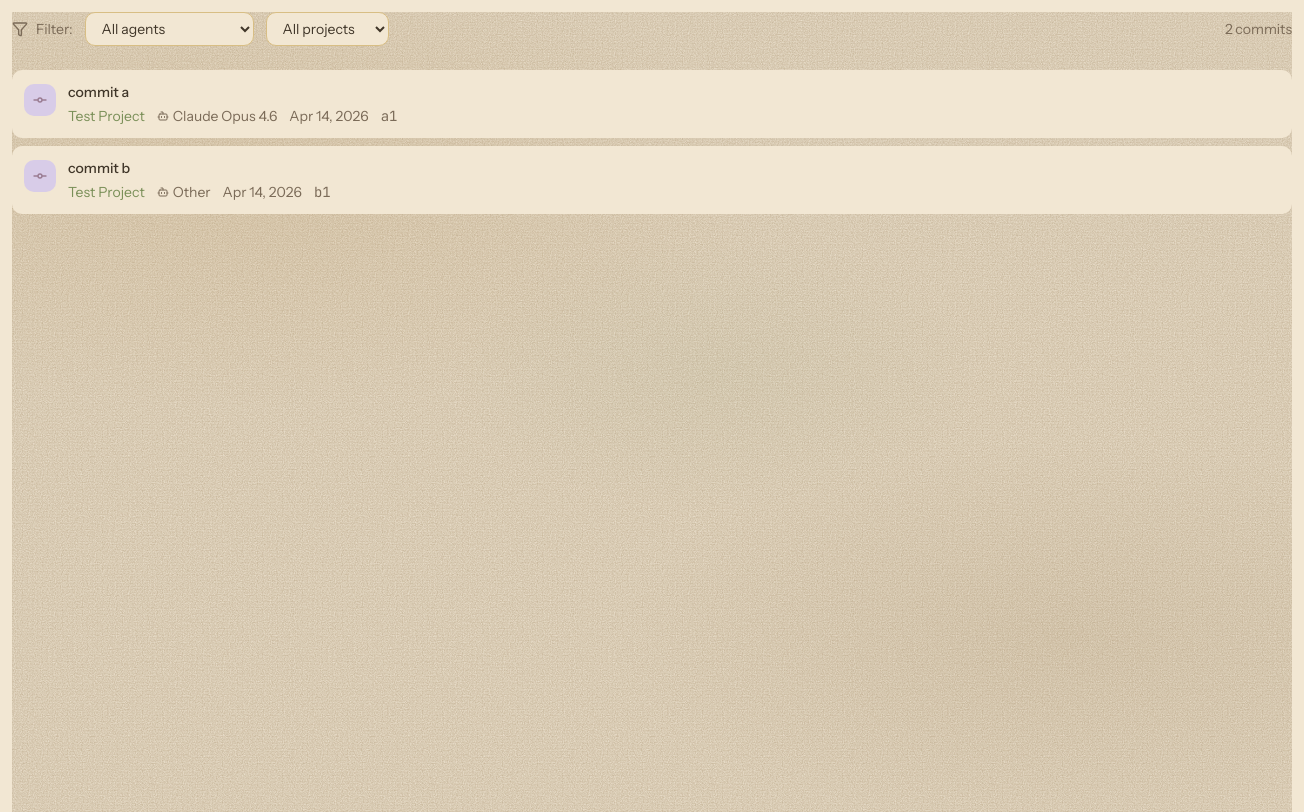
AgentActivityFeed › clear button resets filters
Apply filter
Select "Other (1)" in the 1st dropdown at (169, 29), box [85,12,254,46]
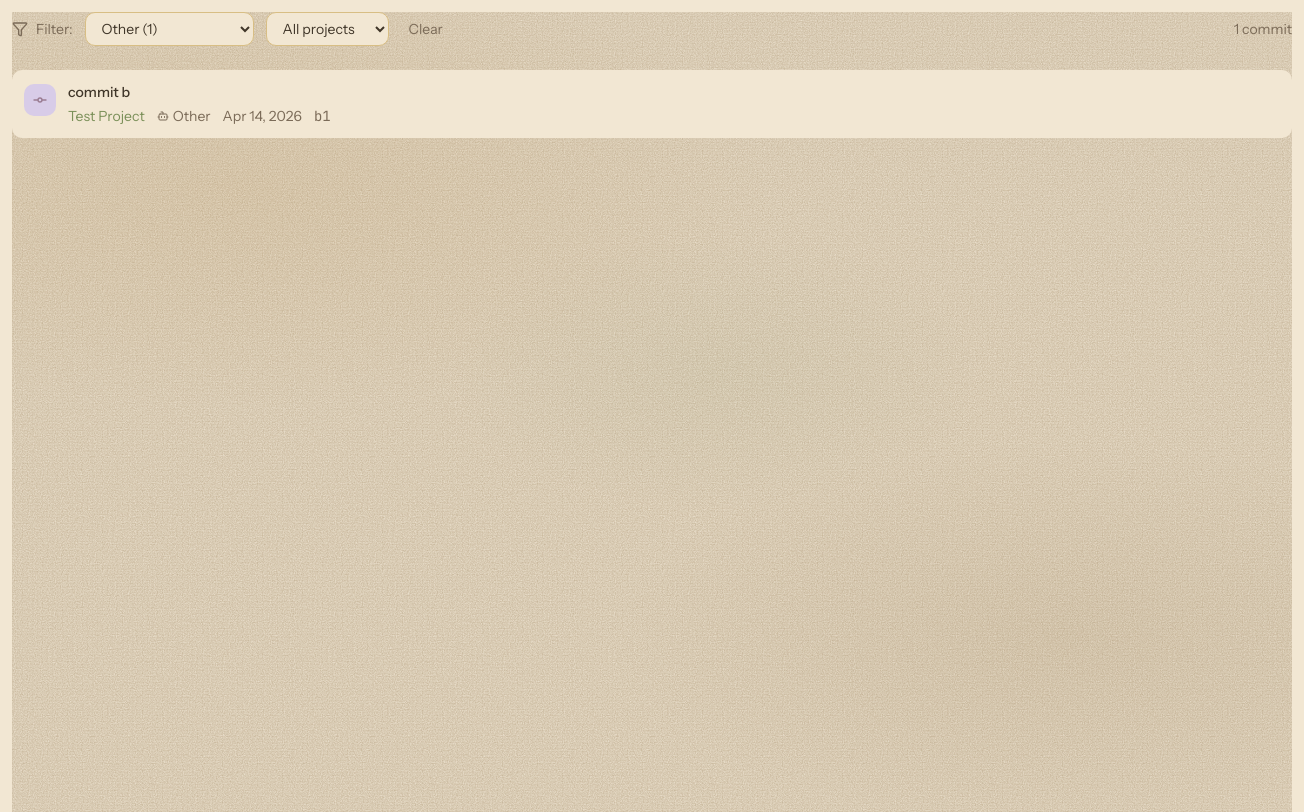
Result: the text "1 commit" is shown at [1234,19,1292,39]
Click the button "Clear" at (426, 29), box [401,15,451,43]
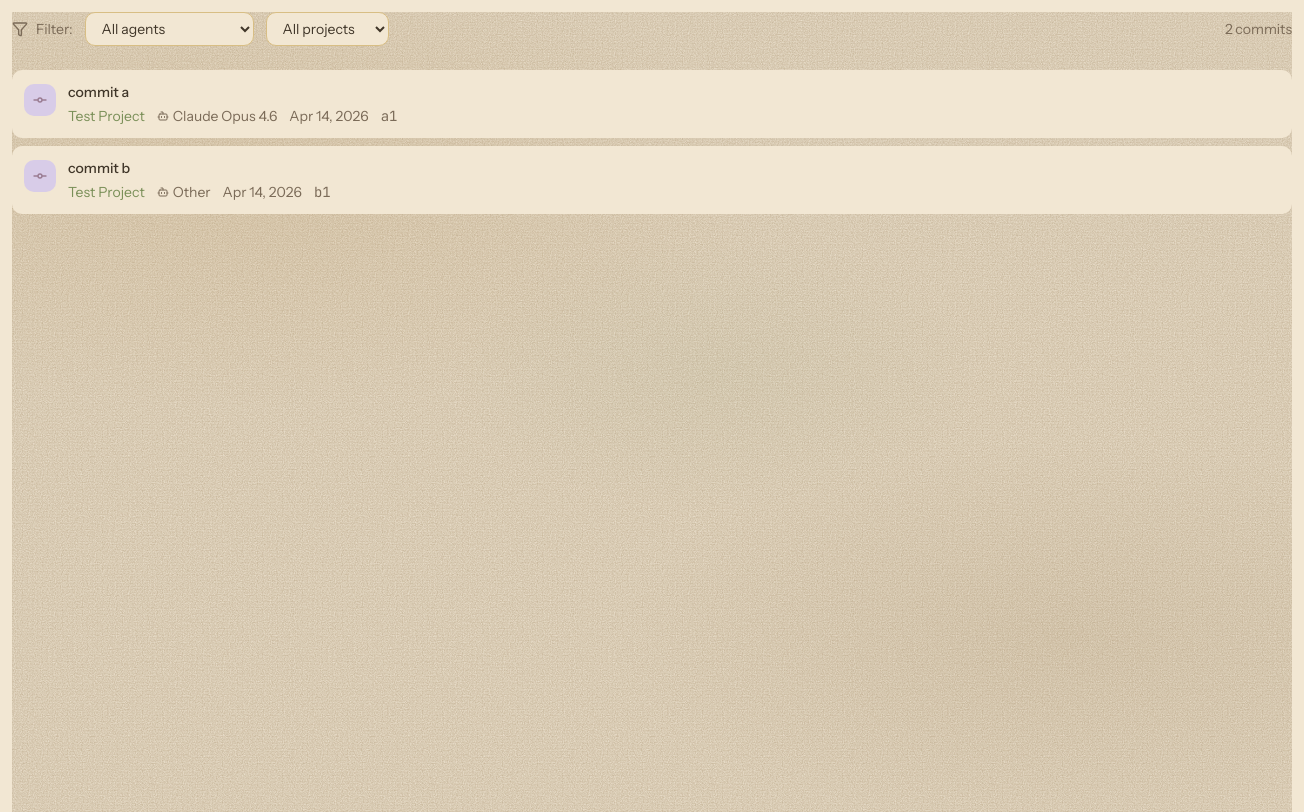
Result: the text "2 commits" is shown at [1225,19,1292,39]
